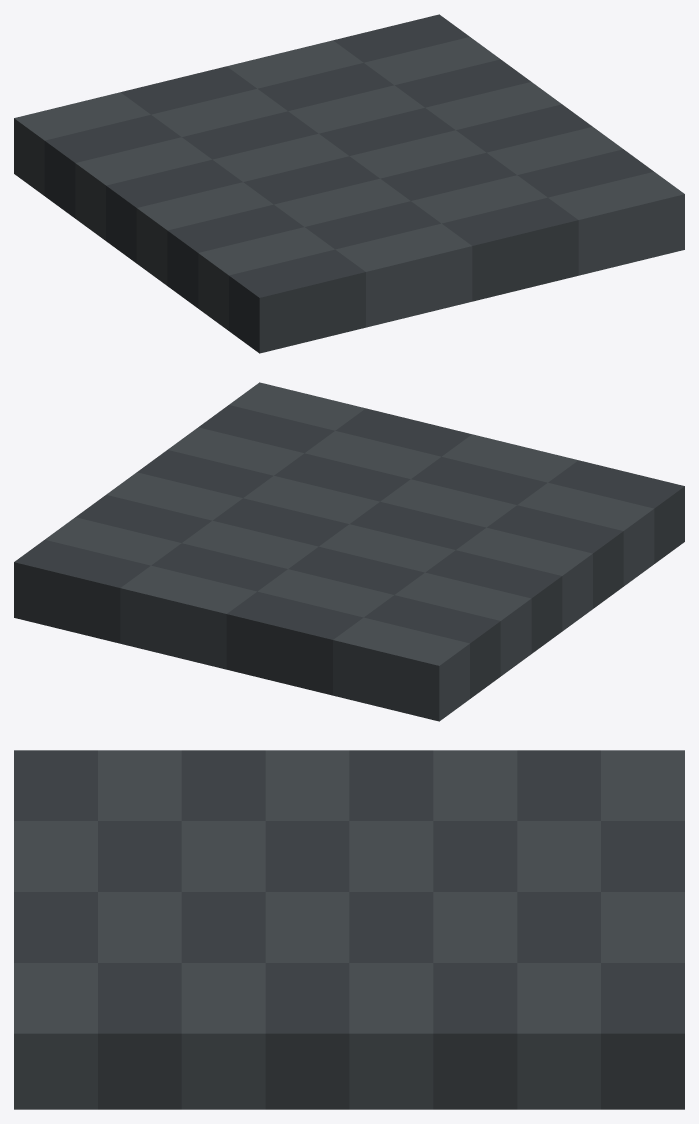
File: carpet_gray_model.glb
3 renders of one model, top to bottom at view 1: azimuth 30°, elevation 25°; view 2: azimuth 150°, elevation 25°; view 3: azimuth 270°, elevation 25°, orthographic. The views are drawn at different scales.
Visible parts, largest first — view 1: Untitled; view 2: Untitled; view 3: Untitled.
Part boxes in pixels (<box>): Untitled: <box>14,14,684,353</box>; Untitled: <box>14,382,684,721</box>; Untitled: <box>14,750,684,1109</box>.
Size of the model in its own units: 0.8 by 0.1 by 0.8.
Materials: 1 (1 with a texture image).
